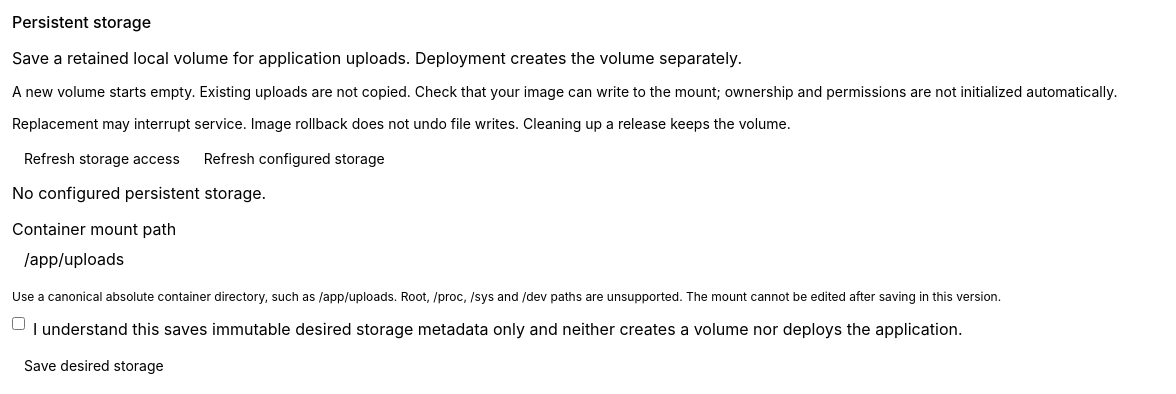
read denial fences pending save and actor change aborts late responses
The width and height of the screenshot is (1176, 394).
expect the text "No configured persistent storage." is shown: met, box top-left (12, 183), bottom-right (266, 203)
Step 1. Click the checkbox → [18, 324], box top-left (12, 317), bottom-right (25, 330)
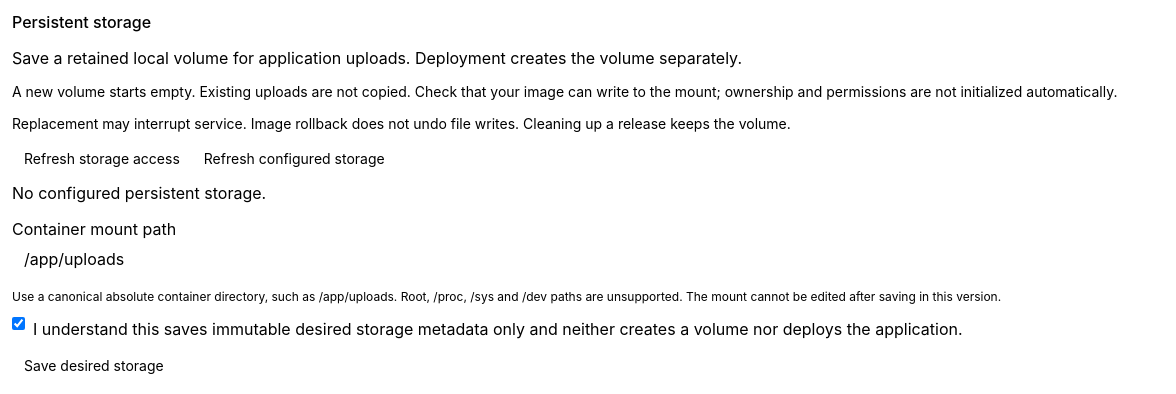
Step 2. Submit the form named "Configure persistent storage", box top-left (12, 217), bottom-right (1164, 377)
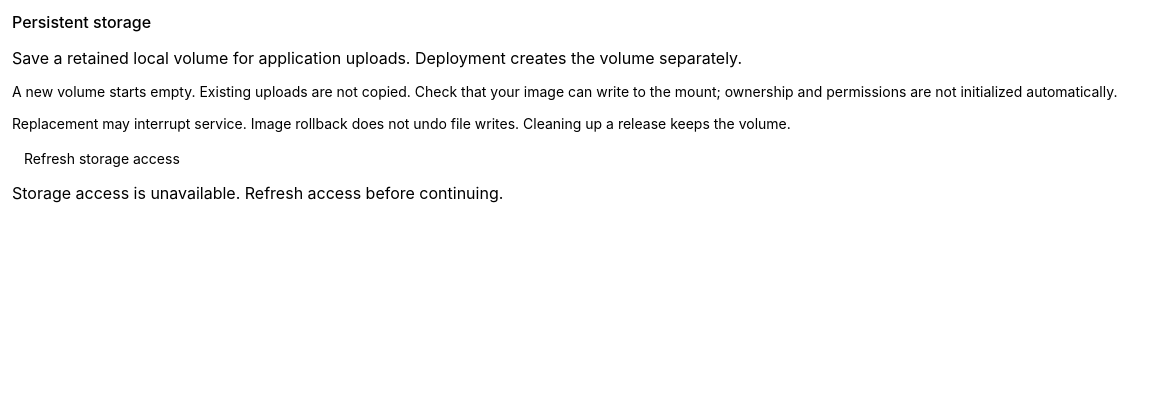
expect the text "Storage access is unavailable. Refresh access before continuing." is shown: met, box top-left (12, 183), bottom-right (503, 203)
